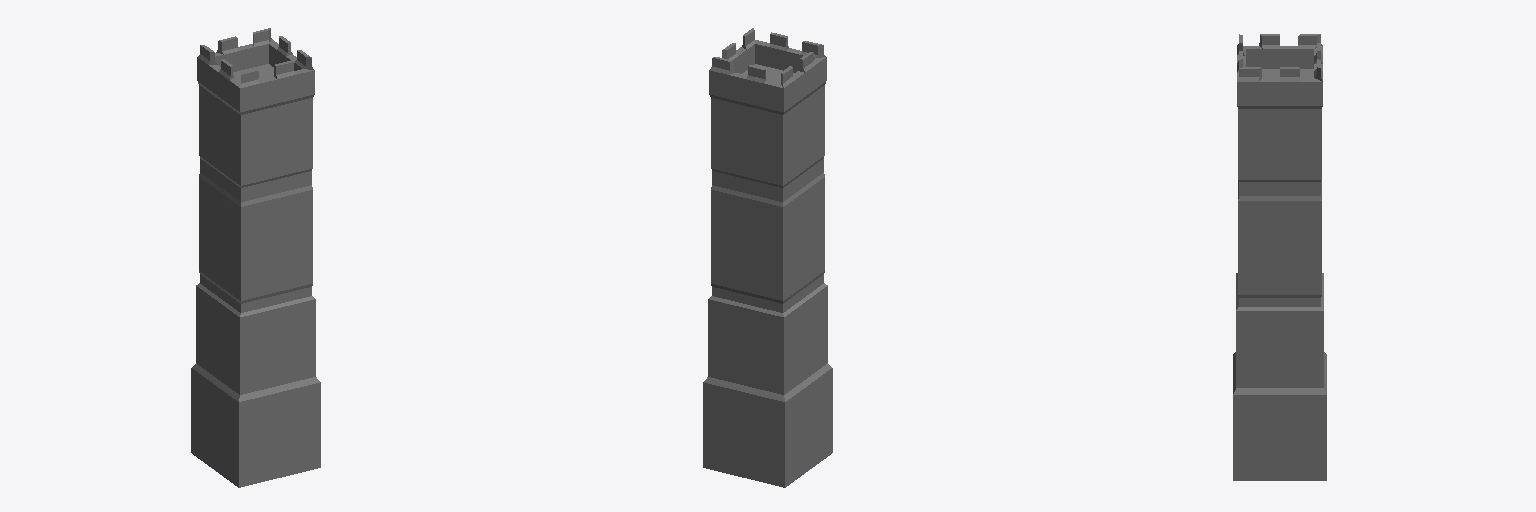
File: bastya.obj
3 renders of one model, left to right at view 1: azimuth 30°, elevation 25°; view 2: azimuth 150°, elevation 25°; view 3: azimuth 270°, elevation 25°, orthographic.
Visible parts, largest first — view 1: Cube; view 2: Cube; view 3: Cube.
Boxes of the visible parts, x1=… form: Cube: x1=191, y1=28, x2=320, y2=487; Cube: x1=703, y1=28, x2=832, y2=487; Cube: x1=1233, y1=34, x2=1326, y2=480.
Size of the model in its own units: 2 by 9.56 by 2.